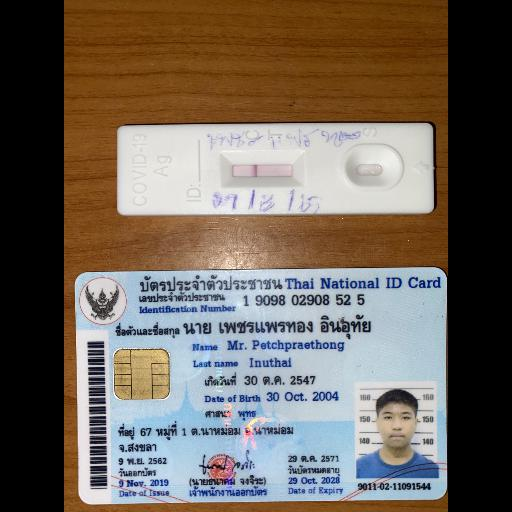Neg: (118, 123, 434, 213)
